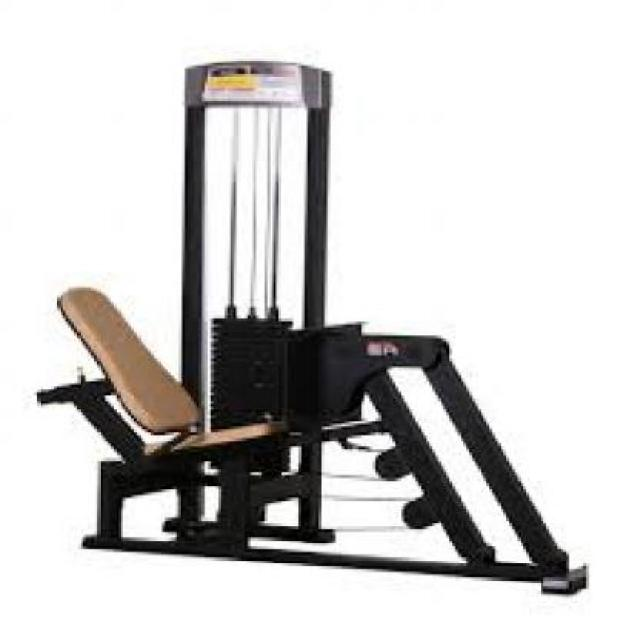leg press: (29, 43, 611, 608)
